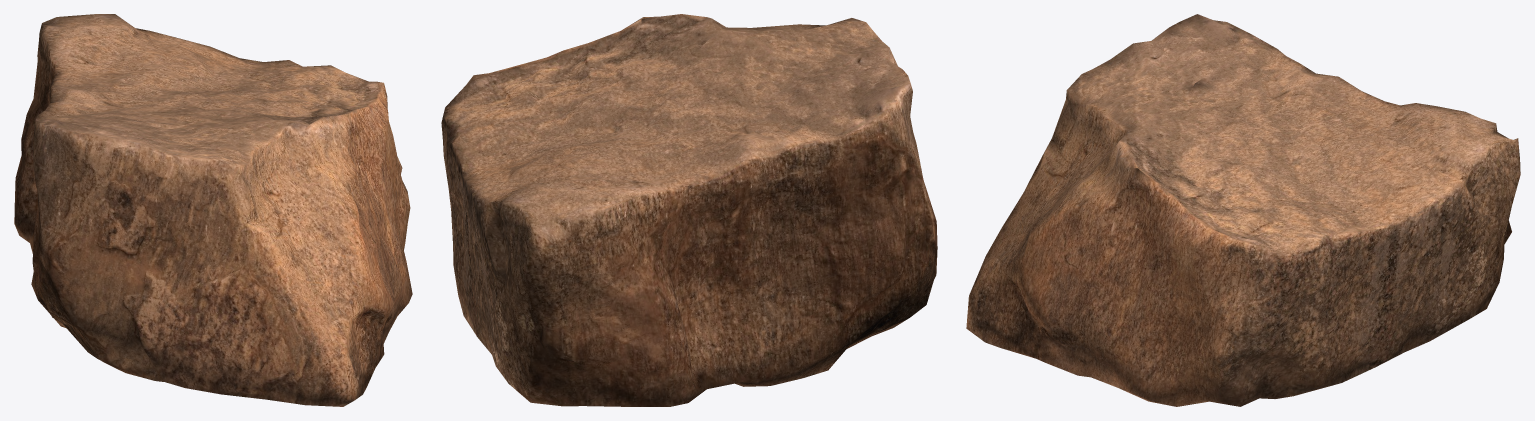
File: mars-boulder-namaqualand-03.glb
3 renders of one model, left to right at view 1: azimuth 30°, elevation 25°; view 2: azimuth 150°, elevation 25°; view 3: azimuth 270°, elevation 25°, orthographic. The views are drawn at different scales.
Parts seen in each view (by area): view 1: mars-boulder-namaqualand-03_LOD0; view 2: mars-boulder-namaqualand-03_LOD0; view 3: mars-boulder-namaqualand-03_LOD0.
Boxes of the visible parts, left/top/right/bottom form: mars-boulder-namaqualand-03_LOD0: left=14, top=14, right=412, bottom=406; mars-boulder-namaqualand-03_LOD0: left=441, top=14, right=937, bottom=406; mars-boulder-namaqualand-03_LOD0: left=966, top=14, right=1520, bottom=406.
Size of what is drawn, in the model's own units: 2.04 by 1.25 by 2.6.
1 material, 1 textured.
